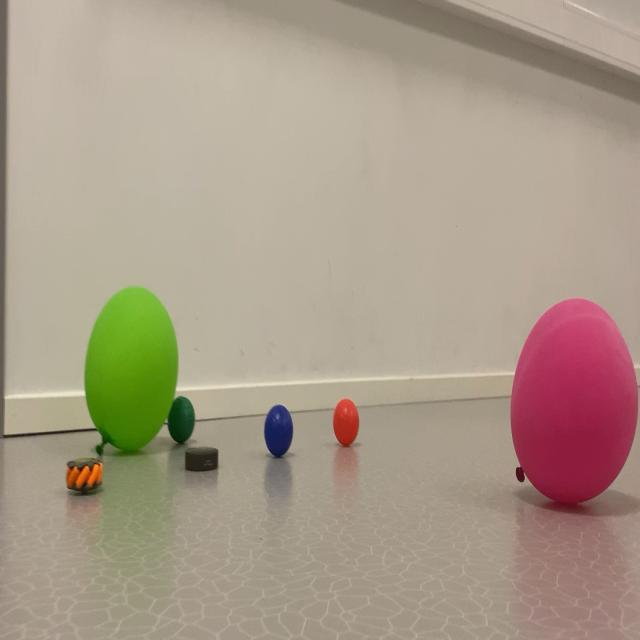6: (252, 376, 375, 487)
red ball: (162, 373, 205, 450)
